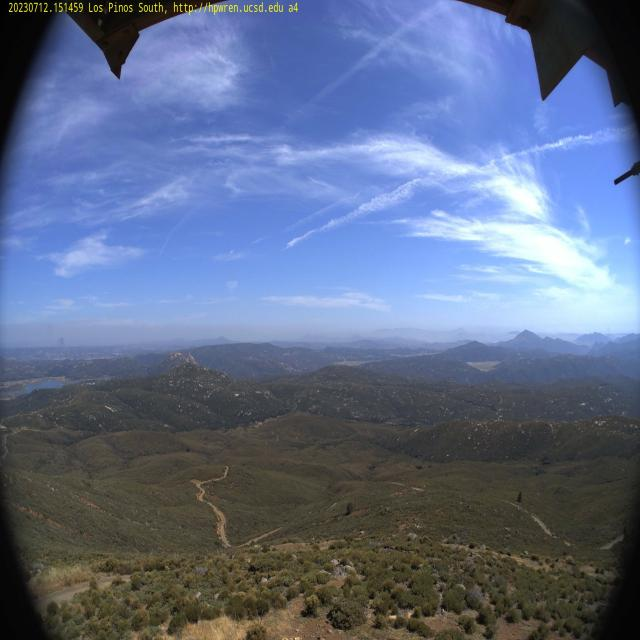smoke: (32, 302, 68, 351)
